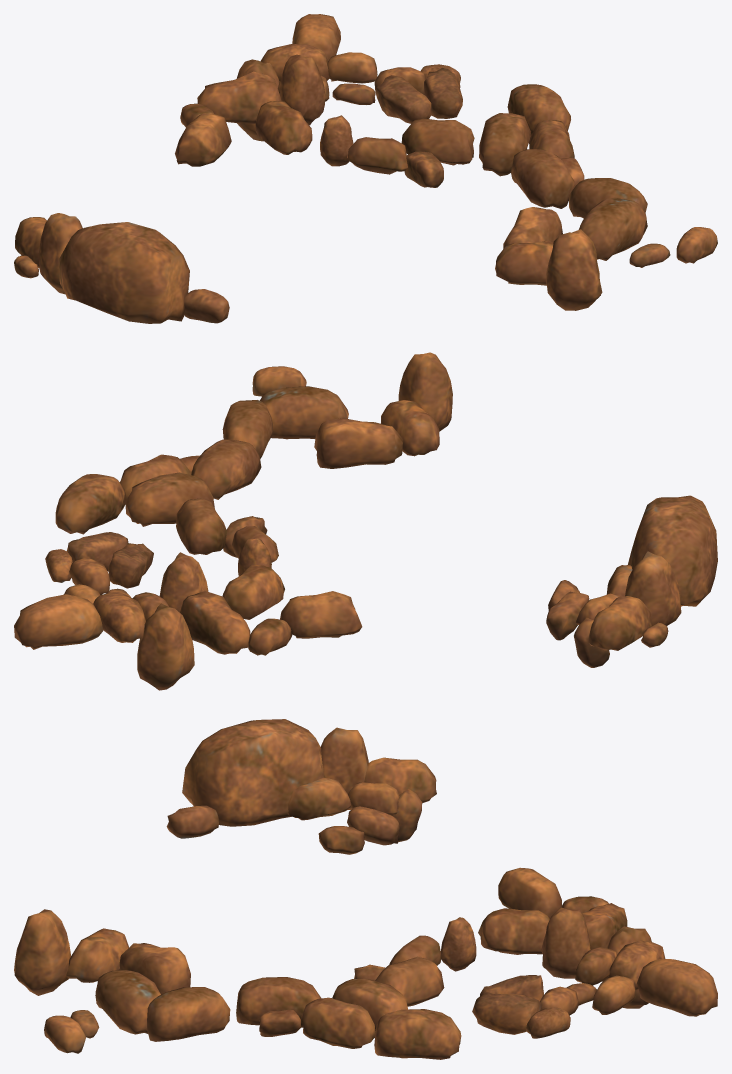
The model's file is field_spring_rock.fbx.
3 renders of one model, top to bottom at view 1: azimuth 30°, elevation 25°; view 2: azimuth 150°, elevation 25°; view 3: azimuth 270°, elevation 25°, orthographic. The views are drawn at different scales.
Parts seen in each view (by area): view 1: field_spring_rock; view 2: field_spring_rock; view 3: field_spring_rock.
Boxes of the visible parts, left/top/right/bottom form: field_spring_rock: left=14, top=14, right=717, bottom=323; field_spring_rock: left=14, top=352, right=717, bottom=690; field_spring_rock: left=14, top=719, right=717, bottom=1059.
Bounding box in the file's own units: 5283 × 1078 × 5576.
Materials: 1 (1 with a texture image).
